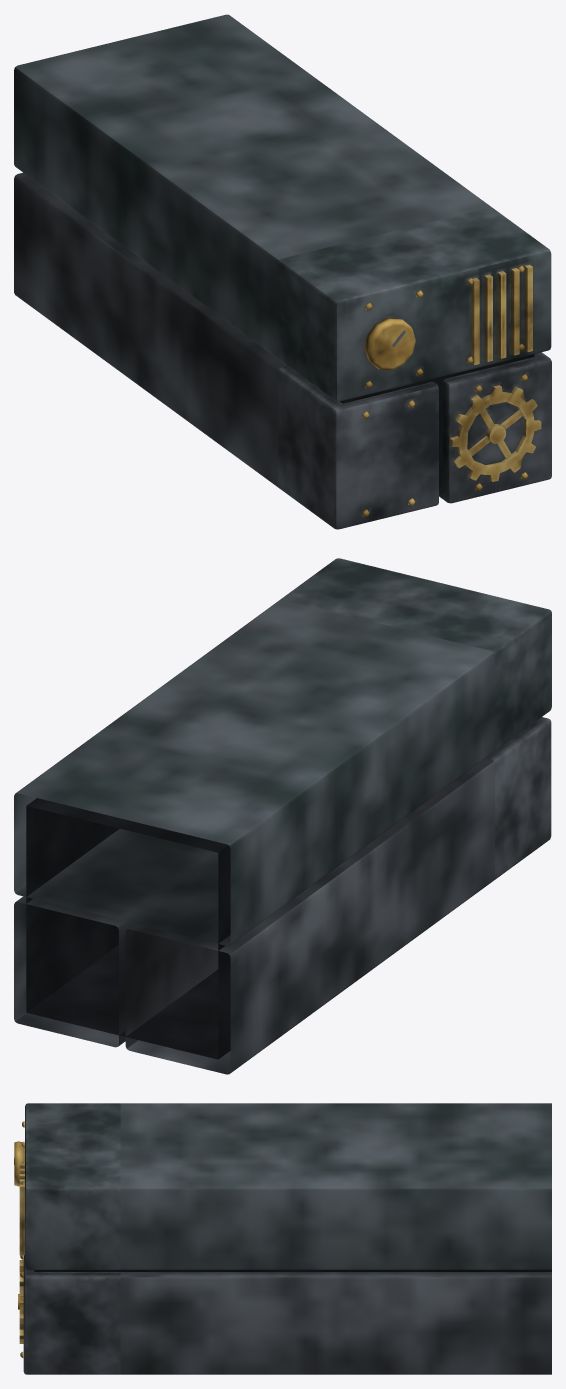
Rendered from ClockLung_Fill_C.fbx.
The picture shows the model from 3 angles, top to bottom: view 1: azimuth 30°, elevation 25°; view 2: azimuth 150°, elevation 25°; view 3: azimuth 270°, elevation 25°; orthographic projection. The views are drawn at different scales.
Parts seen in each view (by area): view 1: ClockLung_Fill_C; view 2: ClockLung_Fill_C; view 3: ClockLung_Fill_C.
Boxes of the visible parts, x1=… form: ClockLung_Fill_C: x1=14, y1=14, x2=551, y2=529; ClockLung_Fill_C: x1=14, y1=558, x2=551, y2=1074; ClockLung_Fill_C: x1=14, y1=1103, x2=551, y2=1374.
Bounding box in the file's own units: 0.97 × 0.985 × 2.56.
